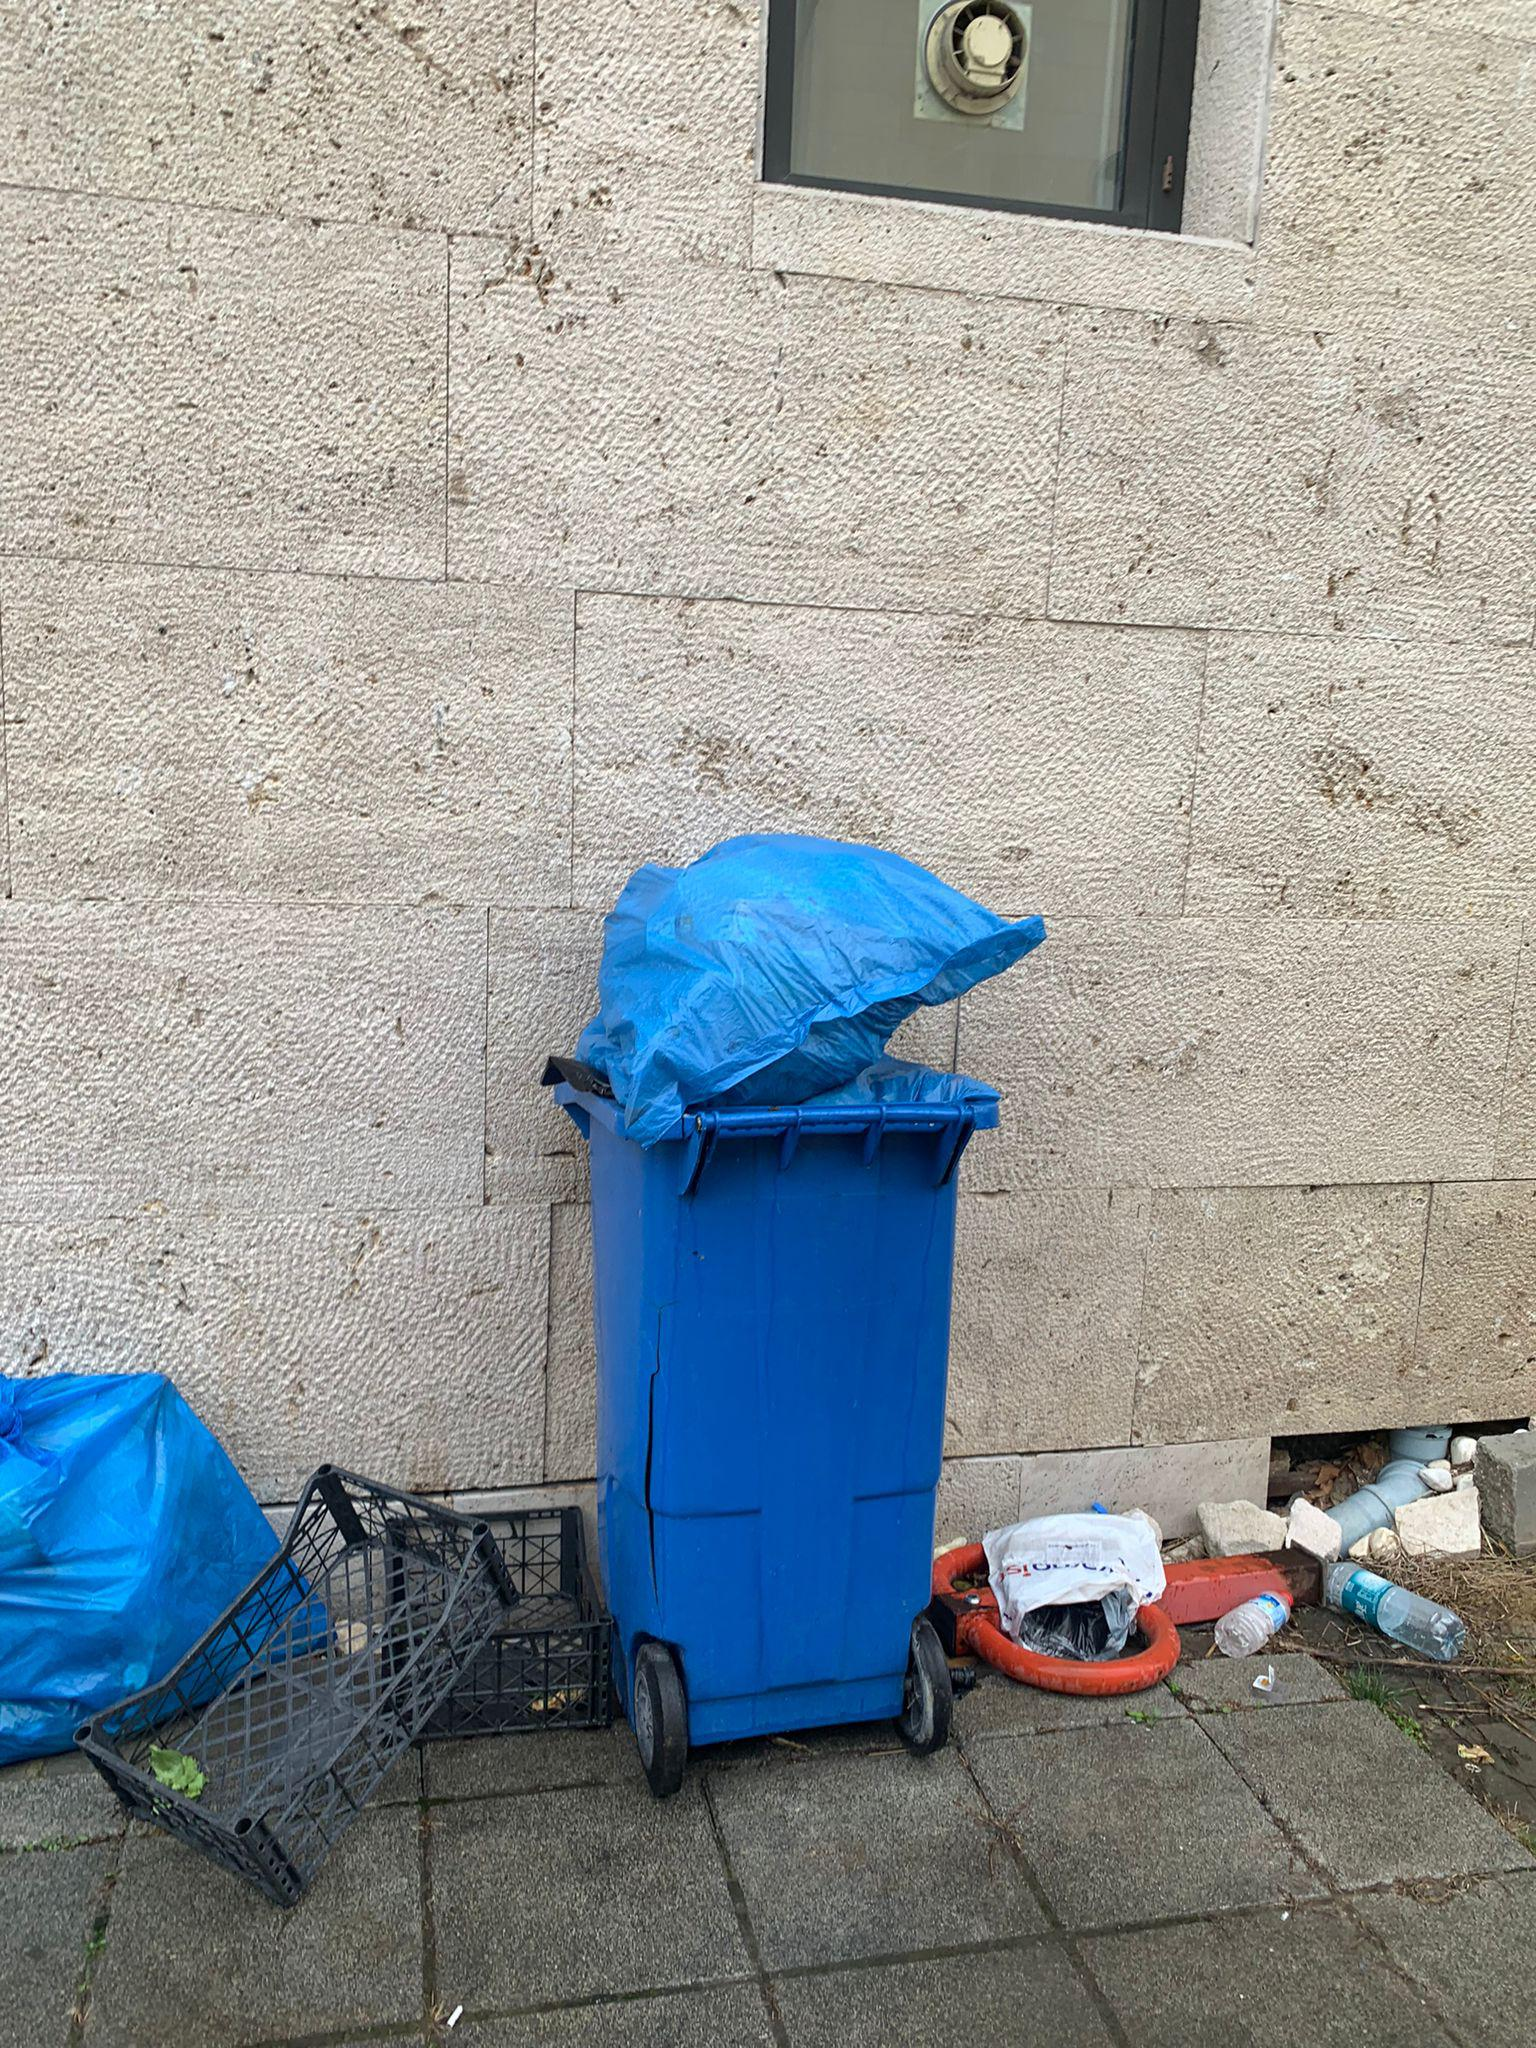Container: (552, 1068, 991, 1793)
Garbage: (552, 830, 1063, 1085), (581, 819, 1060, 1085), (8, 1356, 315, 1758), (968, 1496, 1189, 1643), (1334, 1558, 1488, 1680), (1191, 1593, 1329, 1666)
